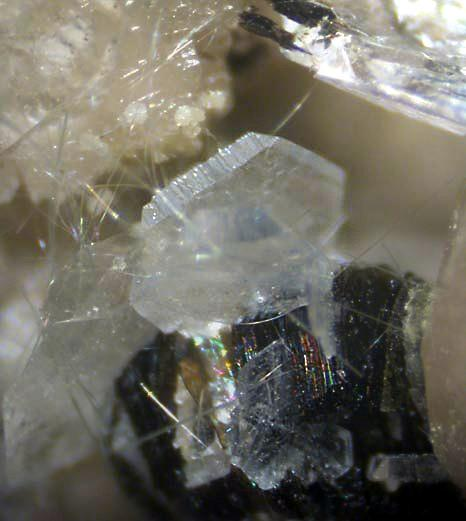calcite: (4, 130, 354, 490), (2, 0, 259, 170)
